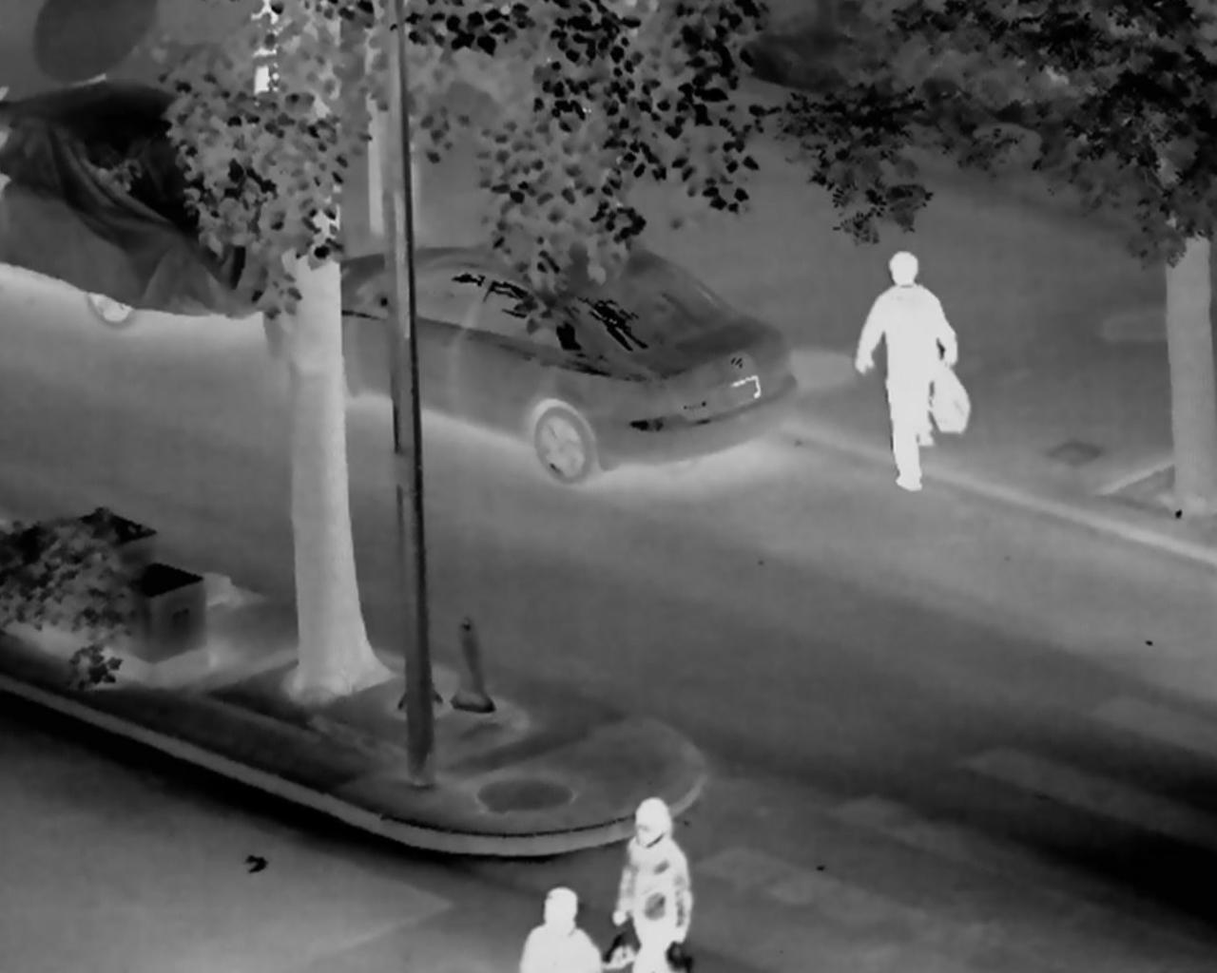person: (856, 251, 961, 487), (616, 799, 695, 973), (513, 886, 607, 973)
